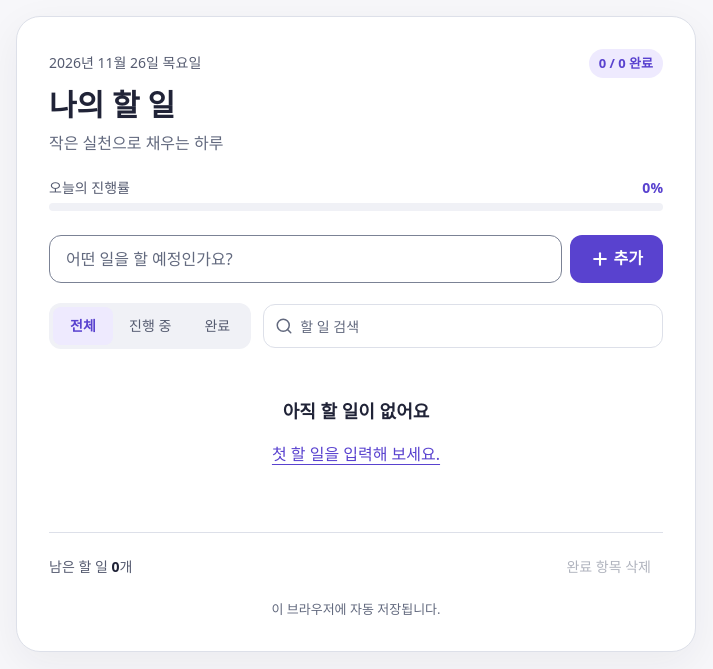
Test: TodoApp 통합 컴포넌트 테스트 › 체크박스로 완료/미완료 상태를 전환하고 진행률이 100%로 변경된다
The image size is (713, 669).
In the field with placeholder "어떤 일을 할 예정인가요?": coordinates (305, 259) [49,235,562,283], type "청소하기"
Then press Enter
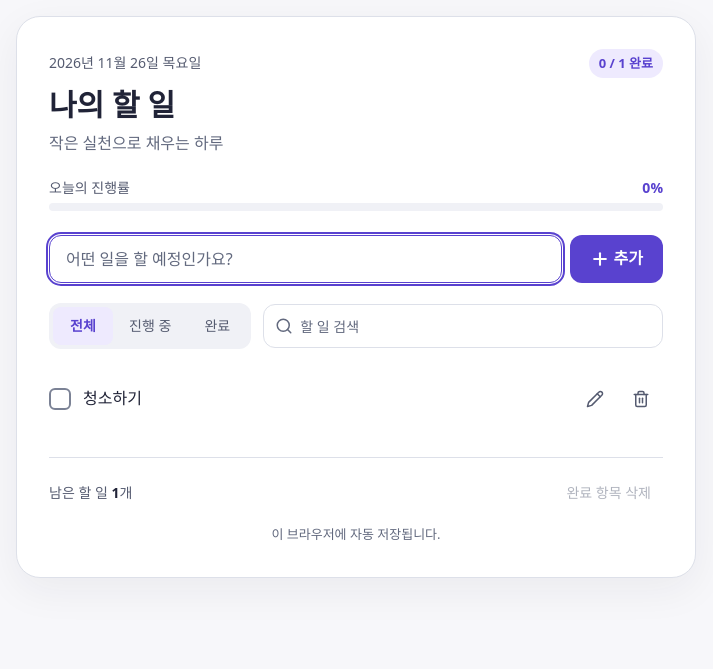
Expected: the checkbox named "청소하기 완료 여부" is not checked
Click the checkbox named "청소하기 완료 여부": coordinates (95, 399) [49,388,142,410]
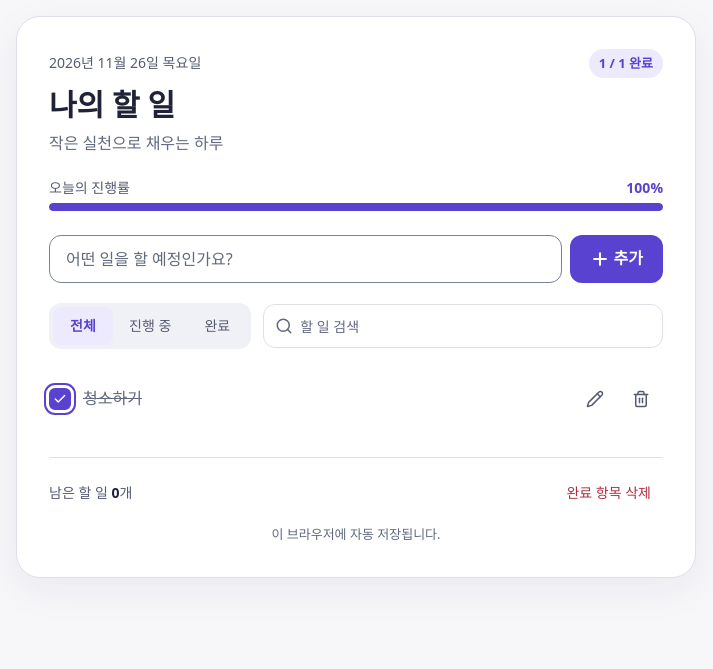
Expected: the checkbox named "청소하기 완료 여부" is checked
Expected: the text "100%" is shown, [626,177,663,199]
Expected: the text "1 / 1 완료" is shown, [589,49,663,78]
// 다시 미완료 체크
Click the checkbox named "청소하기 완료 여부": coordinates (95, 399) [49,388,142,410]
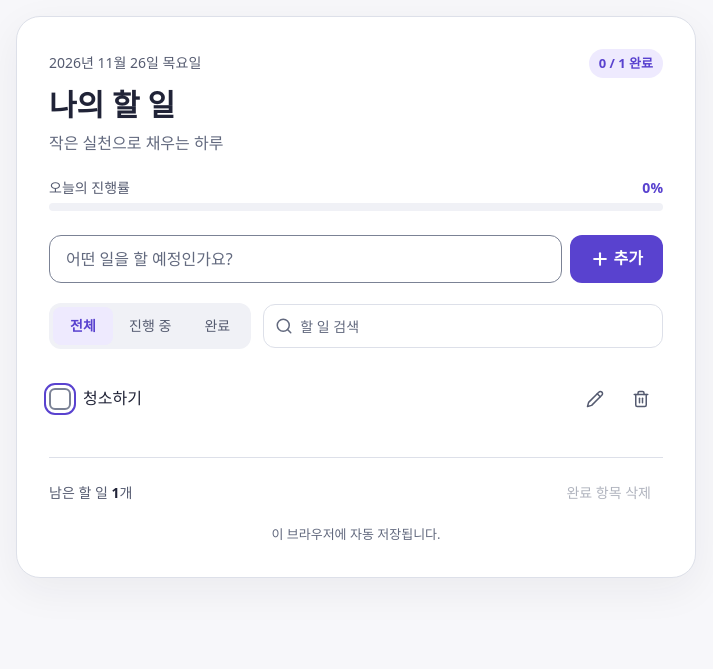
Expected: the text "0%" is shown, [642,177,663,199]
Expected: the checkbox named "청소하기 완료 여부" is not checked, [49,388,142,410]
